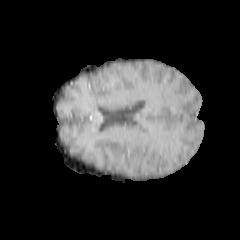glioma: (130, 127, 162, 155)
